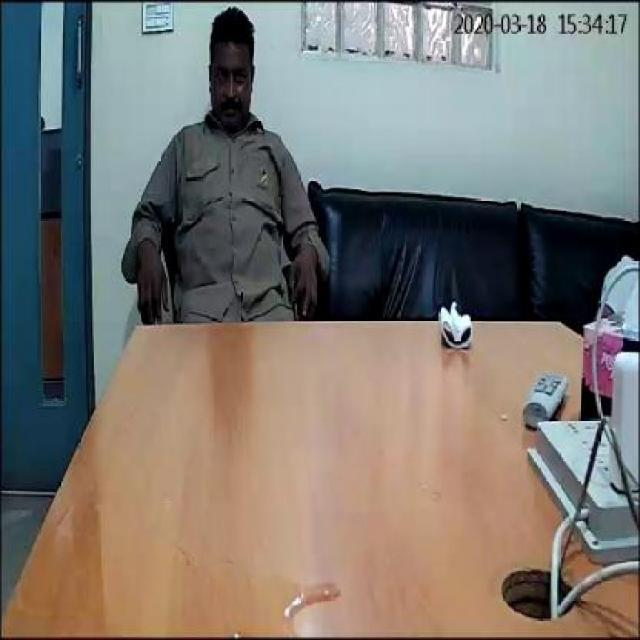spill: (195, 566, 340, 634)
